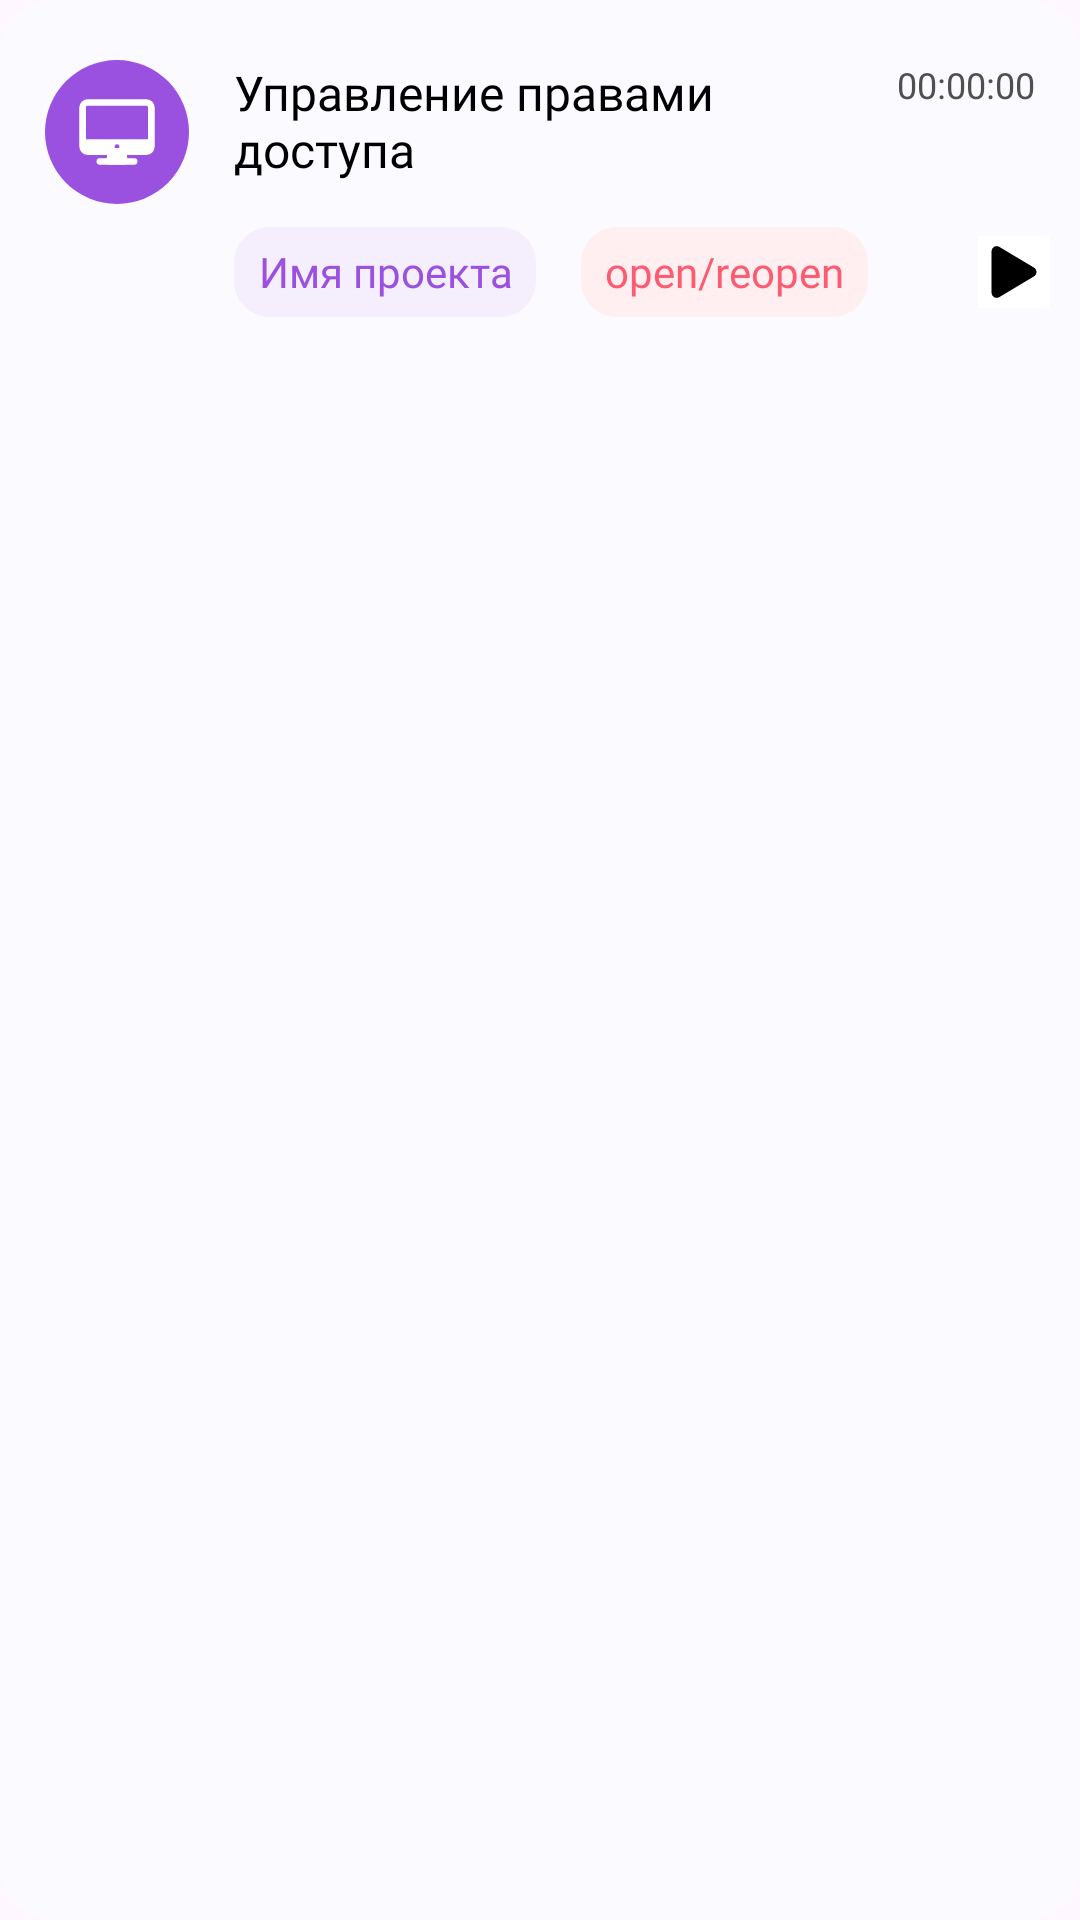

Icons on this 1080x1920 Android screen, each with its box as (x1, y1, x2, y2):
monitor circle: (45, 60, 189, 204)
play: (991, 246, 1037, 298)
